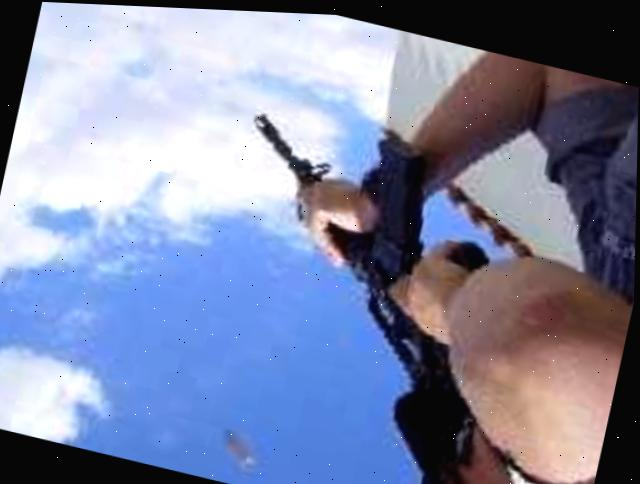rifle: (184, 71, 547, 434)
